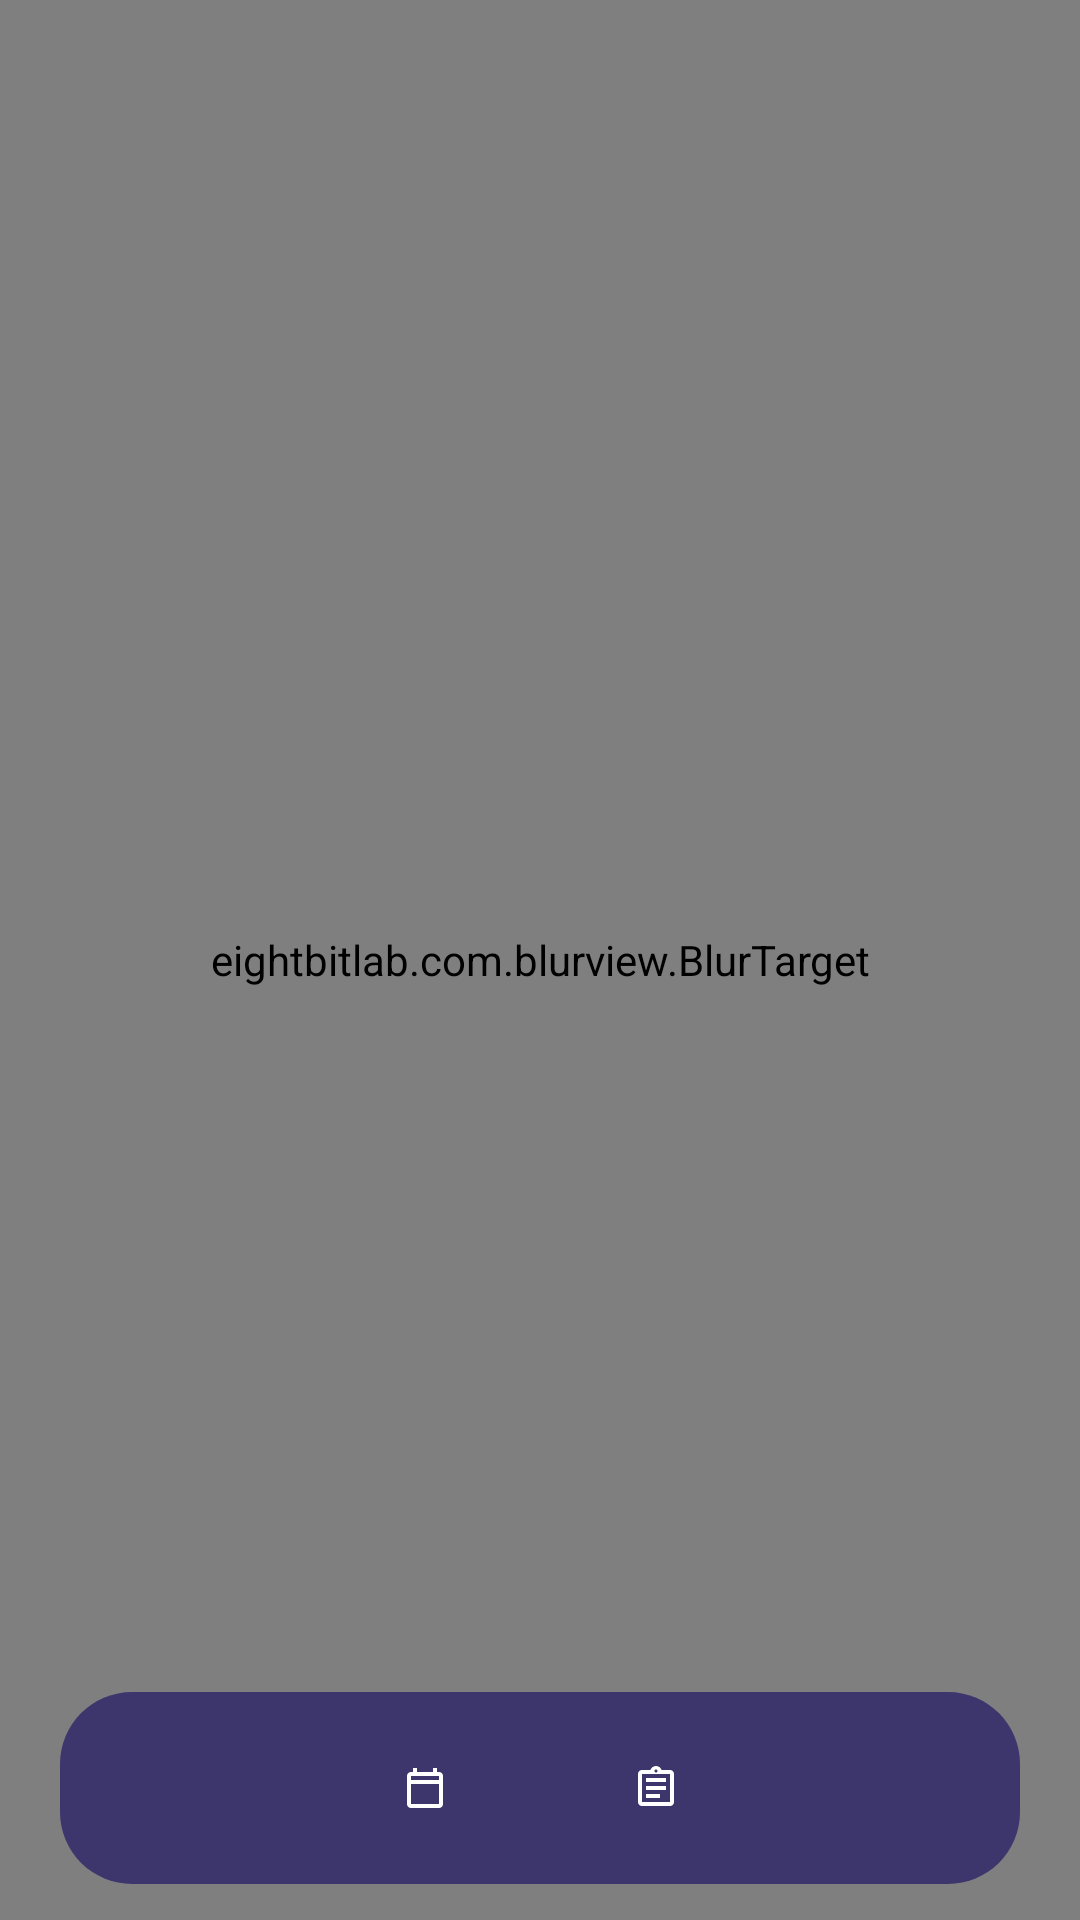

Named icons in this screenshot (1080w x 1920h) and their centers, [x,y]:
Agendamentos: [425,1788]
